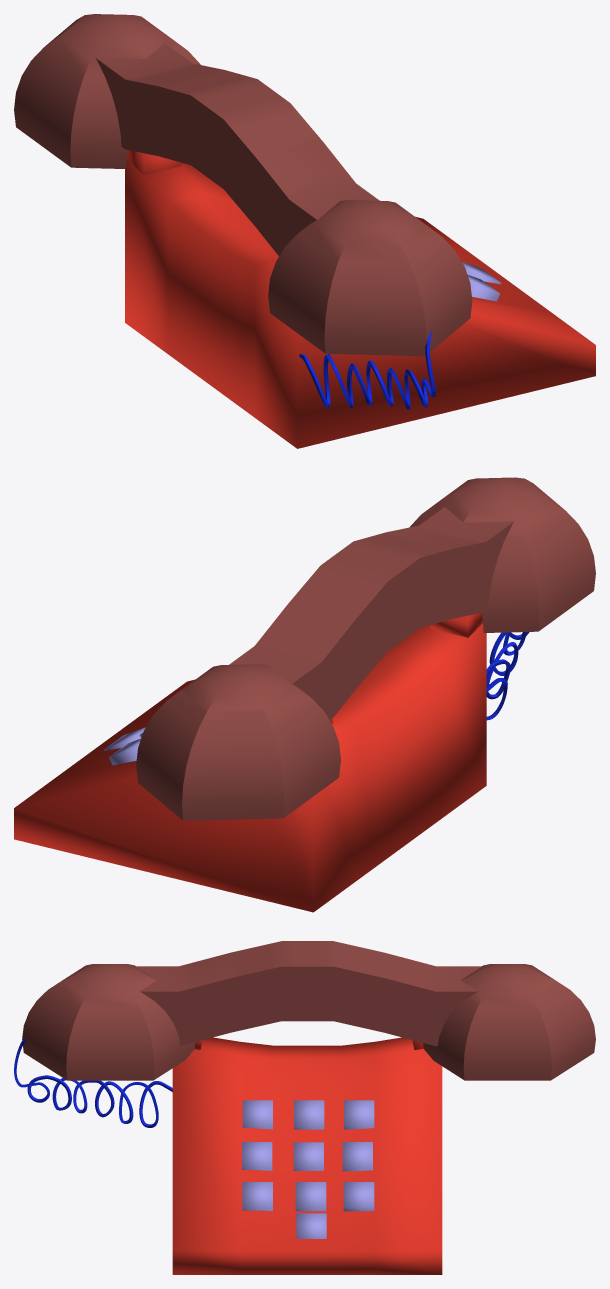
File: Phone.fbx
The picture shows the model from 3 angles, top to bottom: view 1: azimuth 30°, elevation 25°; view 2: azimuth 150°, elevation 25°; view 3: azimuth 270°, elevation 25°; orthographic projection. The views are drawn at different scales.
Parts seen in each view (by area): view 1: Sphere.001, Phone, GP_Layer; view 2: Sphere.001, Phone, GP_Layer; view 3: Phone, Sphere.001, GP_Layer, Cube.004, Button, Cube.008, Cube.006, Cube.007, Cube.003, Cube.001, Cube.009, Cube.002 (+1 smaller).
Part boxes in pixels (<box>): Sphere.001: <box>14,14,472,356</box>; Phone: <box>125,150,595,448</box>; GP_Layer: <box>299,331,435,409</box>; Sphere.001: <box>136,477,595,820</box>; Phone: <box>14,613,486,912</box>; GP_Layer: <box>486,632,529,720</box>; Phone: <box>172,1037,442,1274</box>; Sphere.001: <box>22,941,595,1080</box>; GP_Layer: <box>14,1039,172,1127</box>; Cube.004: <box>295,1182,326,1211</box>; Button: <box>343,1182,374,1211</box>; Cube.008: <box>294,1100,324,1129</box>; Cube.006: <box>342,1142,372,1171</box>; Cube.007: <box>344,1100,374,1129</box>; Cube.003: <box>242,1182,272,1211</box>; Cube.001: <box>293,1142,323,1170</box>; Cube.009: <box>242,1100,272,1129</box>; Cube.002: <box>242,1142,272,1170</box>.
Bounding box in the file's own units: 1.68 × 3.18 × 1.32.
